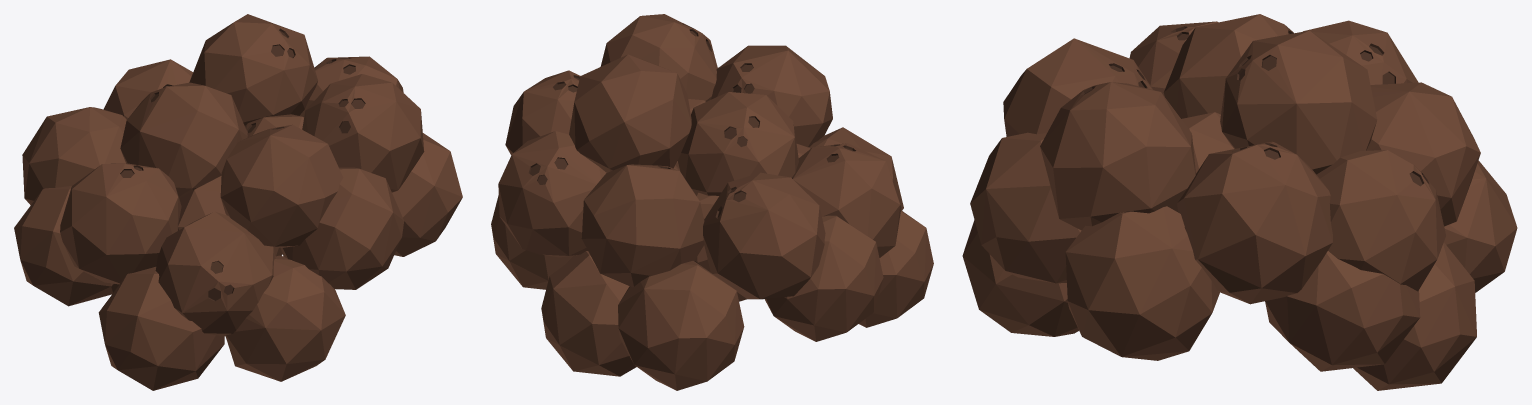
Rendered from cocosparabarril.fbx.
3 views of the same model, side by side, from view 1: azimuth 30°, elevation 25°; view 2: azimuth 150°, elevation 25°; view 3: azimuth 270°, elevation 25° (orthographic). The views are drawn at different scales.
Parts seen in each view (by area): view 1: Sphere.002_coconut3_0.018; view 2: Sphere.002_coconut3_0.018; view 3: Sphere.002_coconut3_0.018.
Boxes of the visible parts, box(x1,y1,x2,y2) form: Sphere.002_coconut3_0.018: box(14, 14, 462, 390); Sphere.002_coconut3_0.018: box(491, 14, 933, 390); Sphere.002_coconut3_0.018: box(962, 14, 1517, 390).
Bounding box in the file's own units: 87.94 × 60.8 × 86.65.
